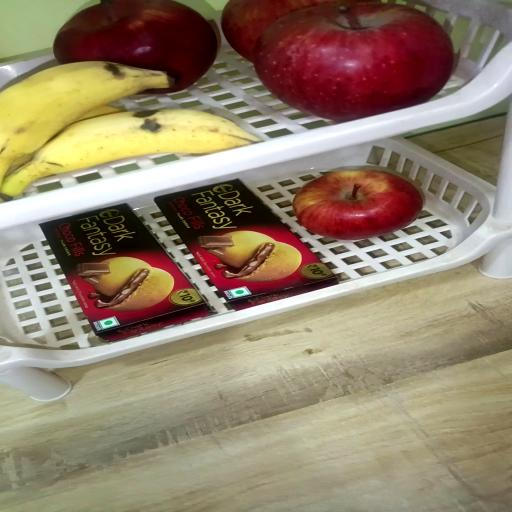Apple: (252, 2, 455, 122), (53, 0, 219, 93), (221, 0, 381, 62), (293, 167, 423, 241)
Choco Fills: (155, 180, 335, 309), (40, 204, 209, 341)
